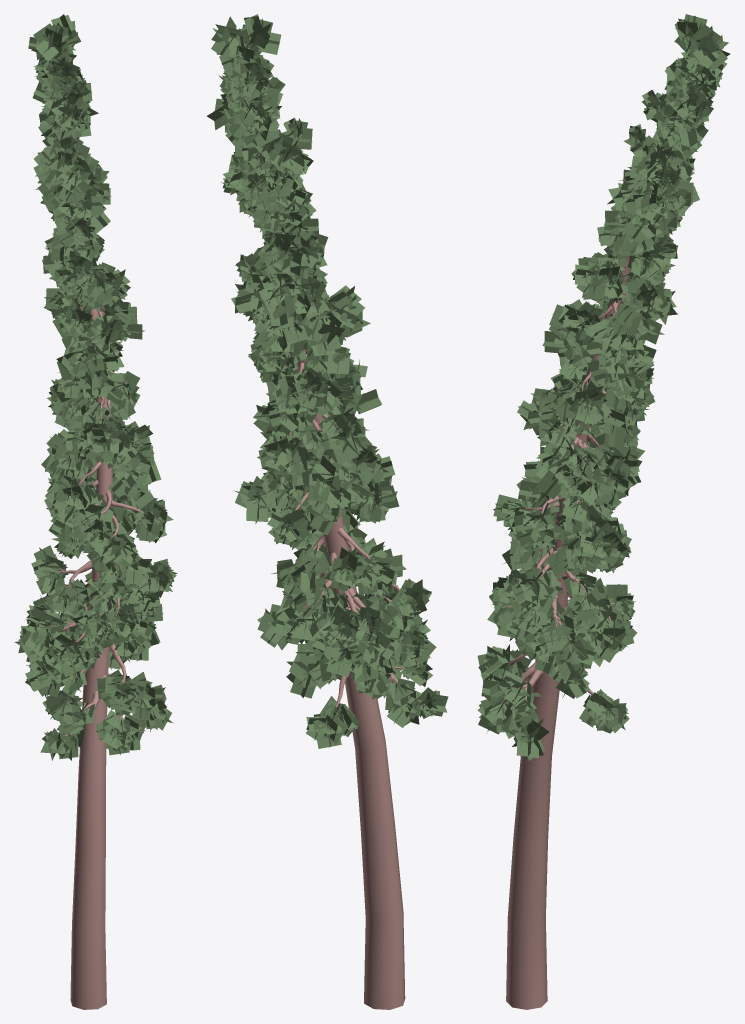
Rendered from redwood.glb.
3 renders of one model, left to right at view 1: azimuth 30°, elevation 25°; view 2: azimuth 150°, elevation 25°; view 3: azimuth 270°, elevation 25°, orthographic. The views are drawn at different scales.
Parts seen in each view (by area): view 1: leaves, branches; view 2: leaves, branches; view 3: leaves, branches.
Boxes of the visible parts, <box> form: leaves: <box>14,14,177,760</box>; branches: <box>48,136,146,1009</box>; leaves: <box>207,14,448,748</box>; branches: <box>285,314,429,1009</box>; leaves: <box>477,14,730,760</box>; branches: <box>499,145,650,1009</box>.
Size of the model in its own units: 13.41 by 80.22 by 18.31.
